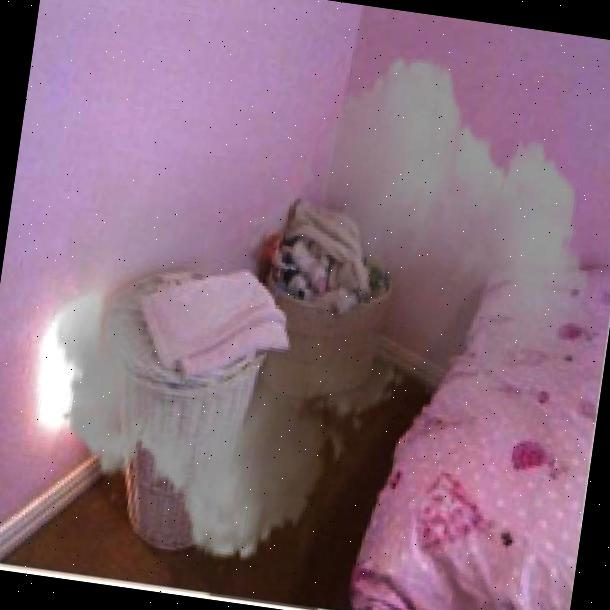smoke: (17, 0, 610, 610)
